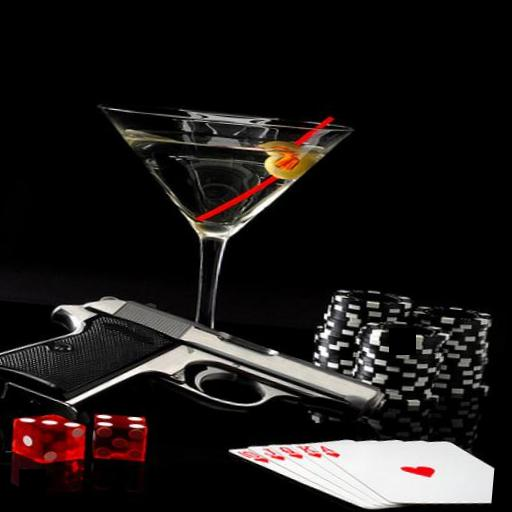Handgun: (0, 285, 392, 448)
